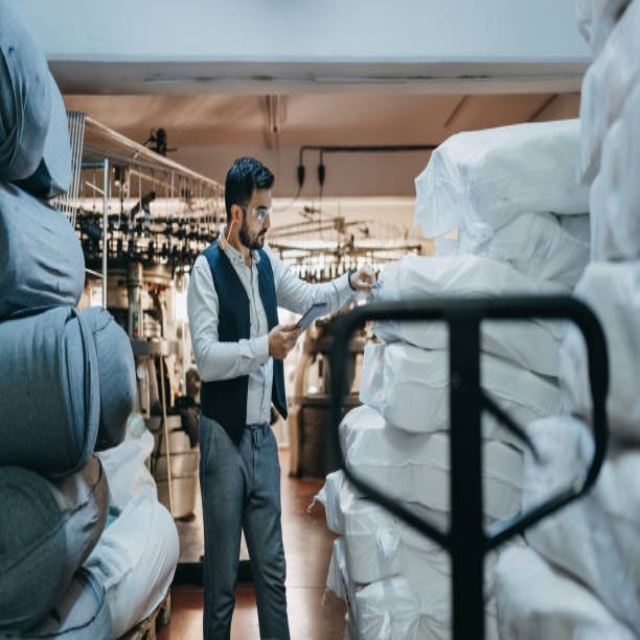Gafas: (238, 203, 273, 222)
Sin_guantes: (268, 324, 302, 360), (347, 262, 379, 295)
Sin_mascara: (253, 220, 272, 243)
